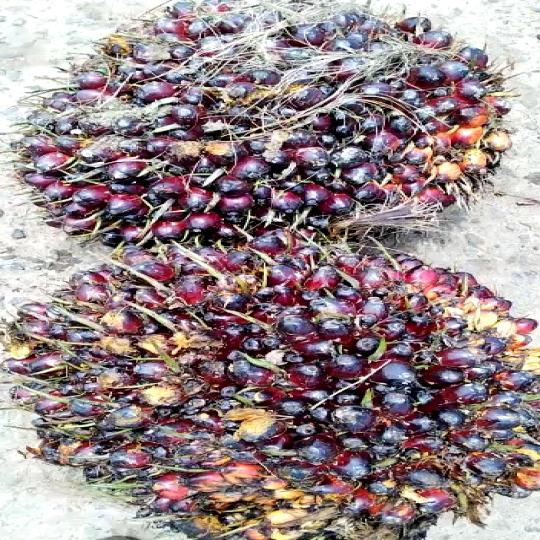kurang masak: (0, 250, 540, 540), (0, 0, 540, 255)
